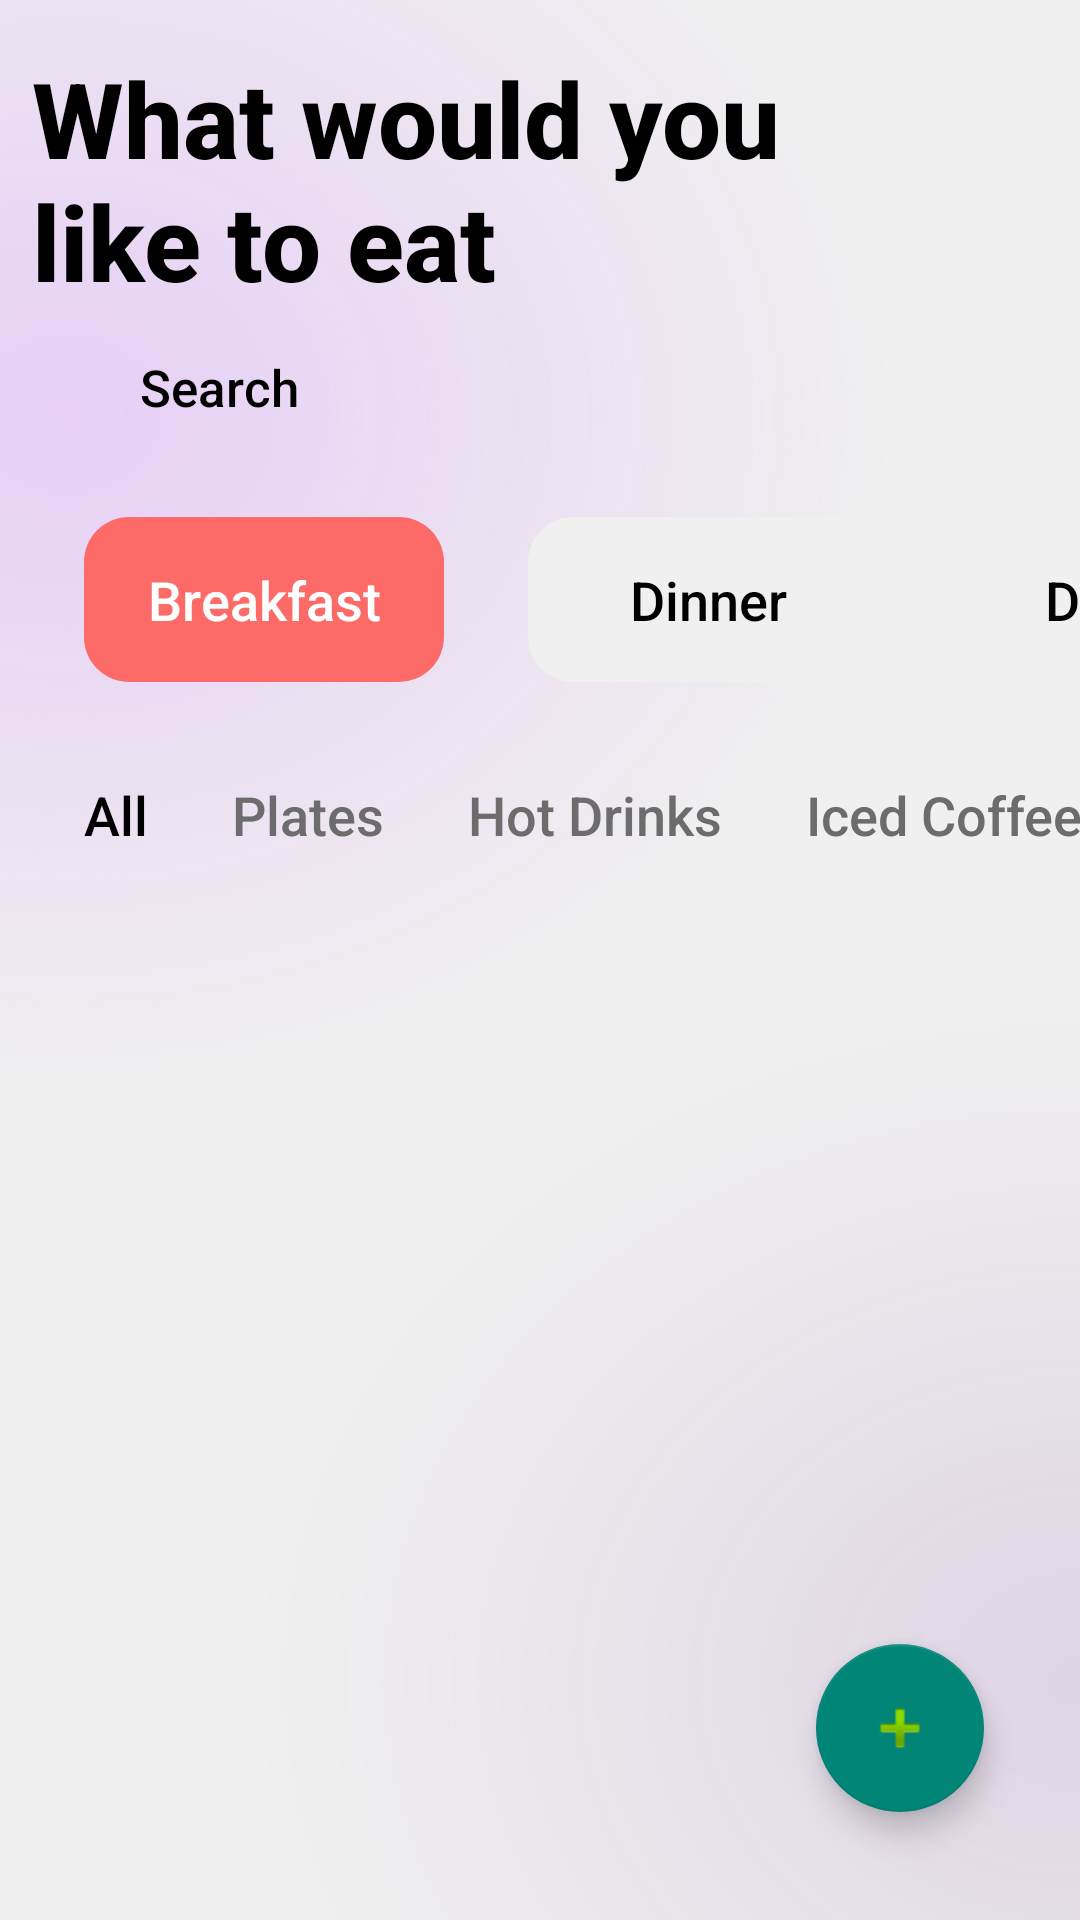

Screen size 1080px×1920px. Icon name, then its center in pixels as (x,y):
add: (900,1728)
